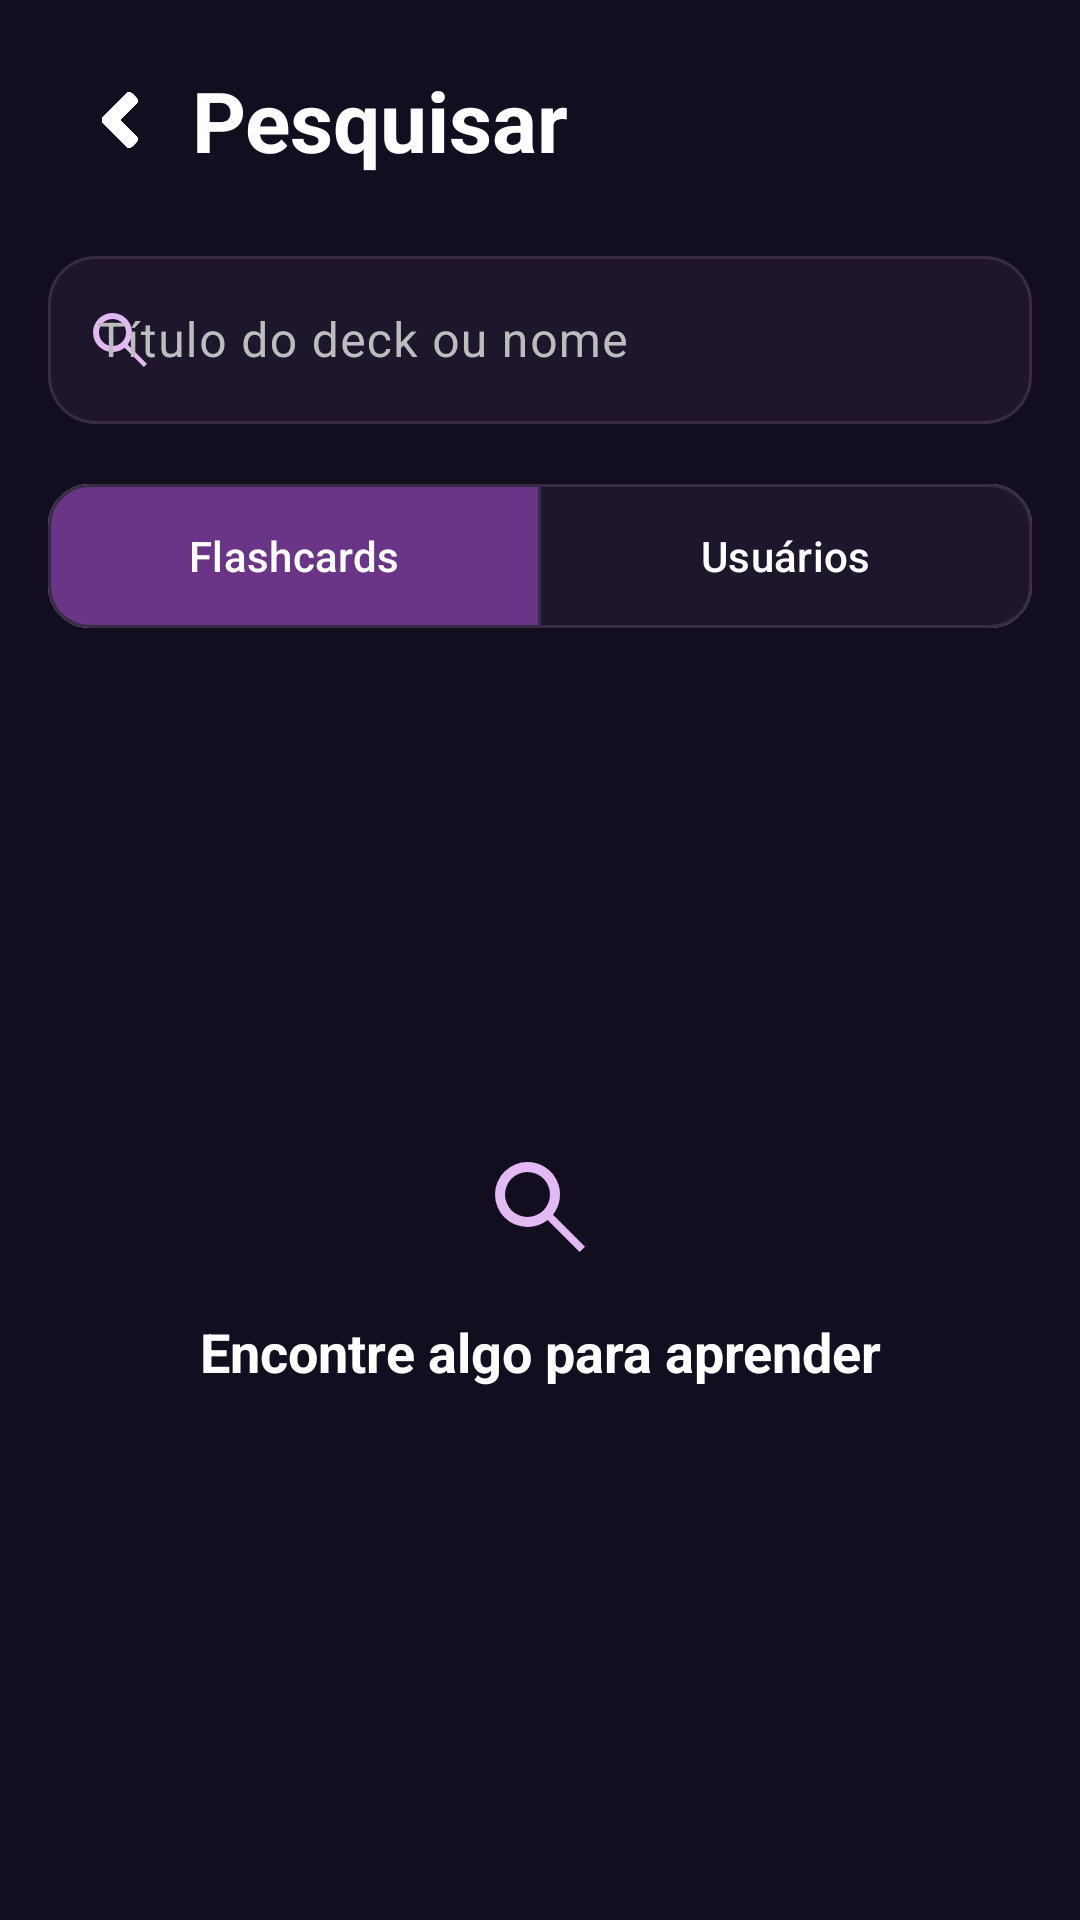

Named icons in this screenshot (1080 x 1920) and their centers, [x,y]:
pesquisa: [540,1207]
